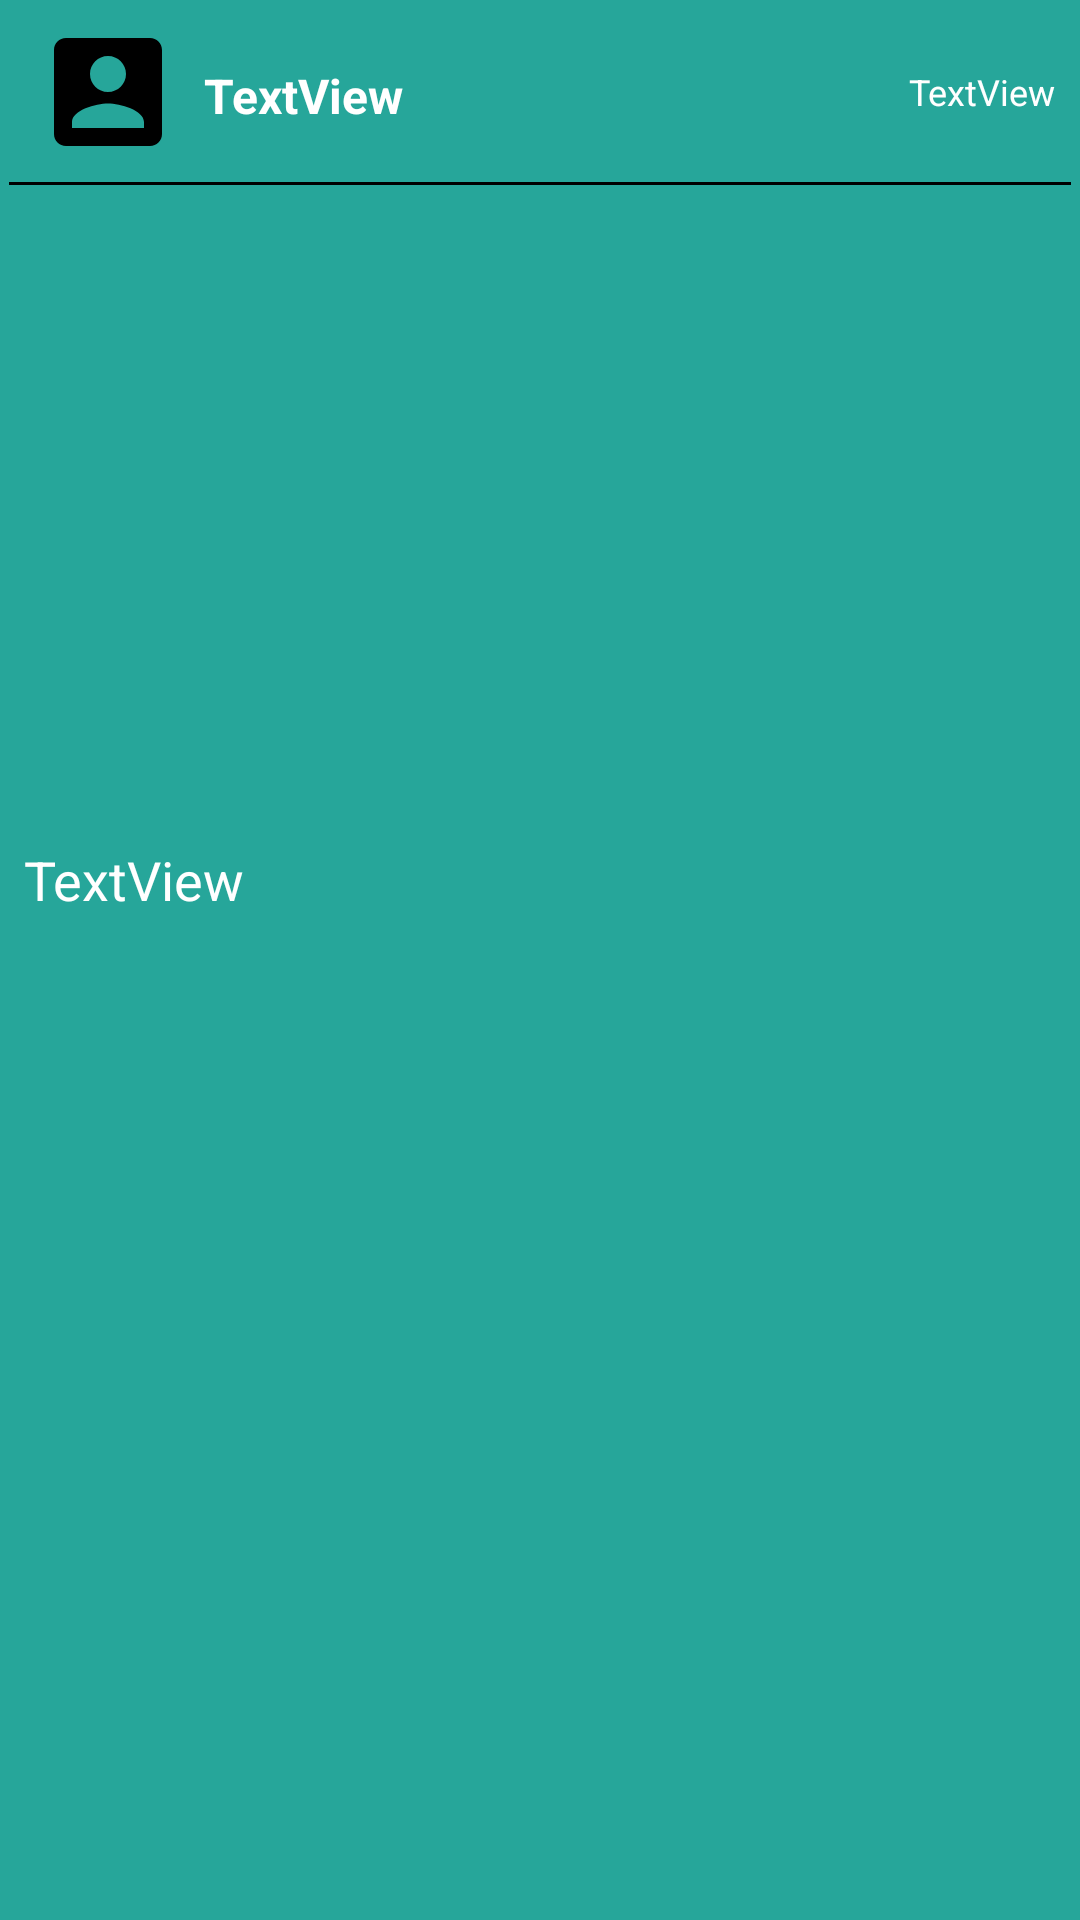

Icons on this 1080×1920 Android screen, each with the point to tap as (x=x, y=y):
account box: (x=108, y=92)
